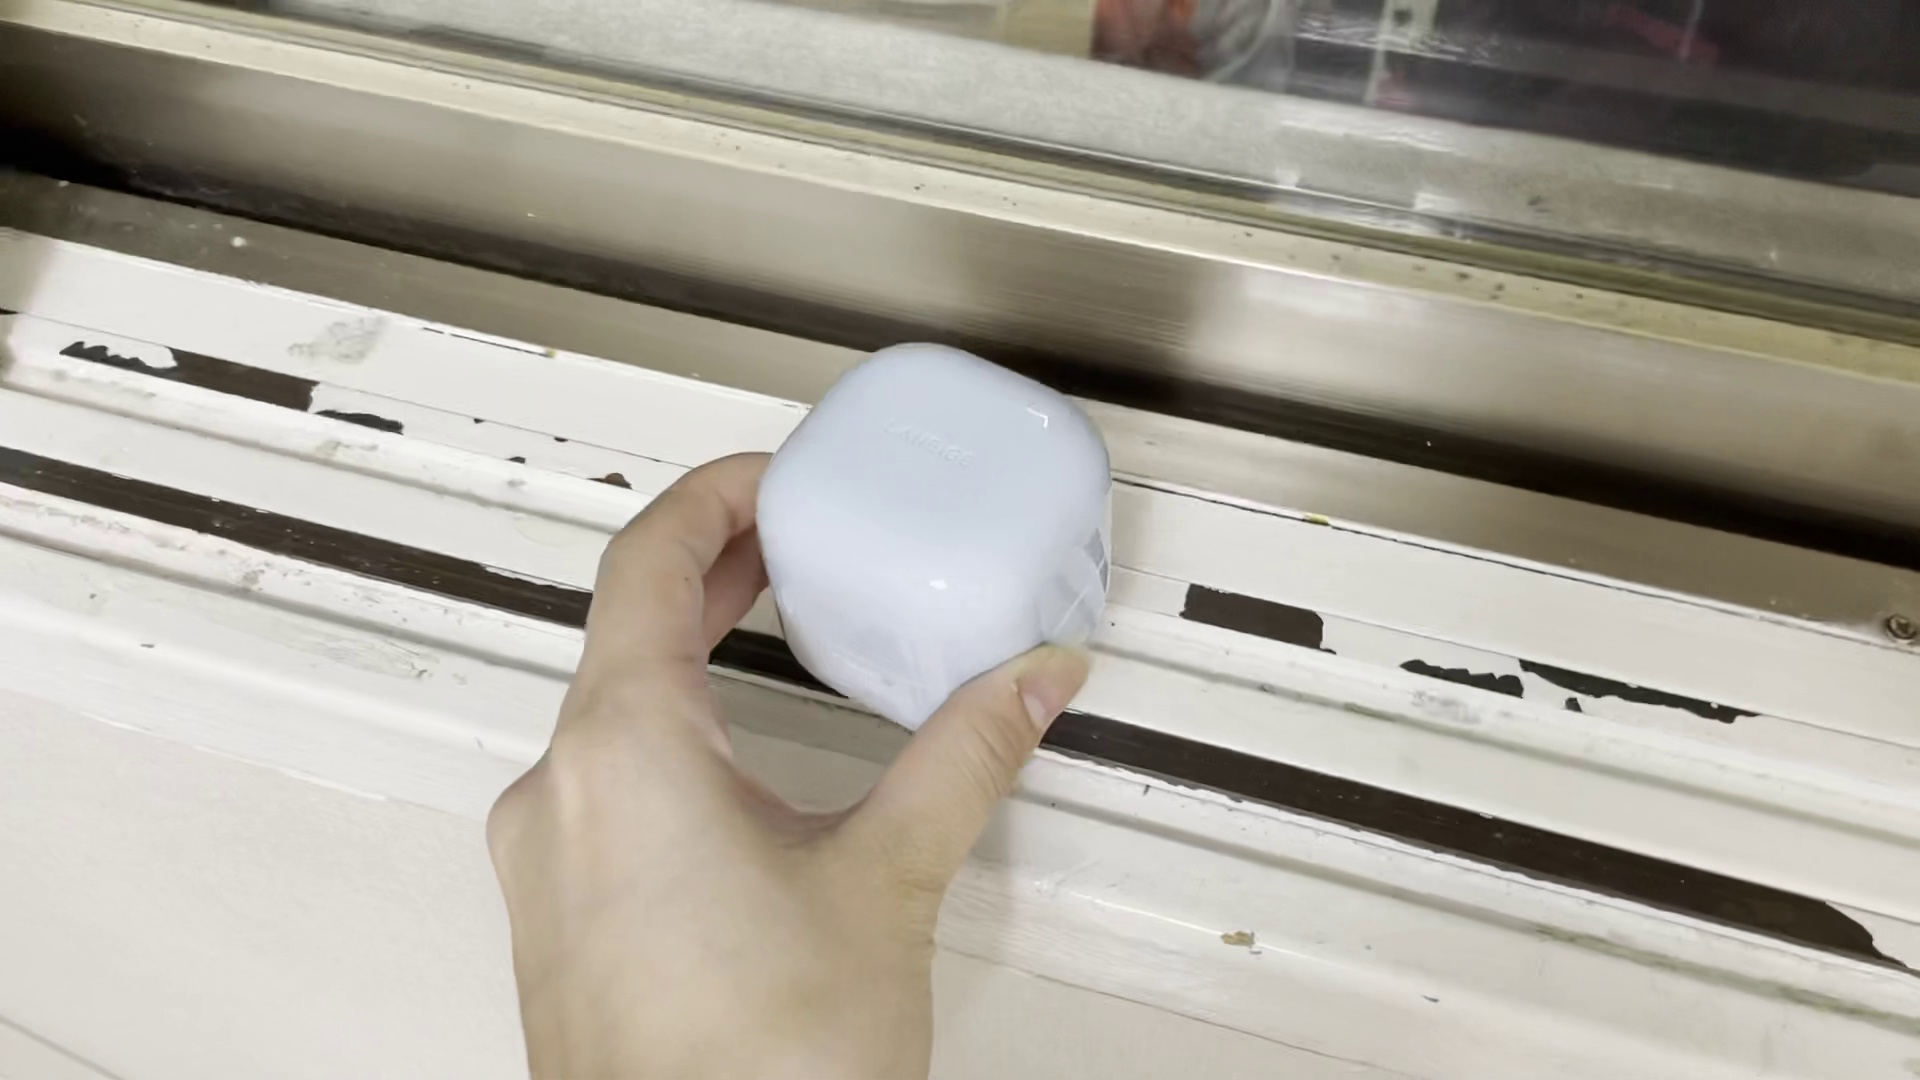cream: (757, 345, 1114, 735)
